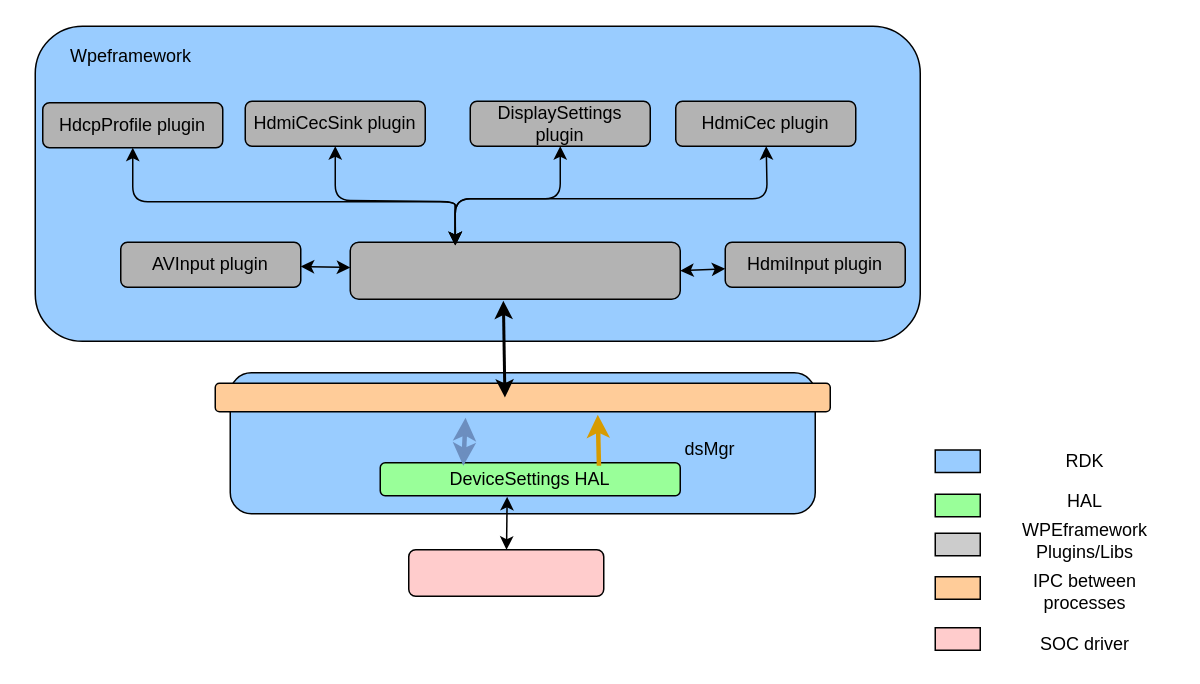
Some shapes in this 1200 by 684 pixel diagram are drawn without their labels. The box of each missing label's shape, as (x1, y1, x2, y2) in pixels:
DeviceSettings Client library (libds.so): (349, 241, 680, 299)
Devicesettings Driver: (407, 548, 604, 596)
IARM IPC: (214, 382, 830, 412)
